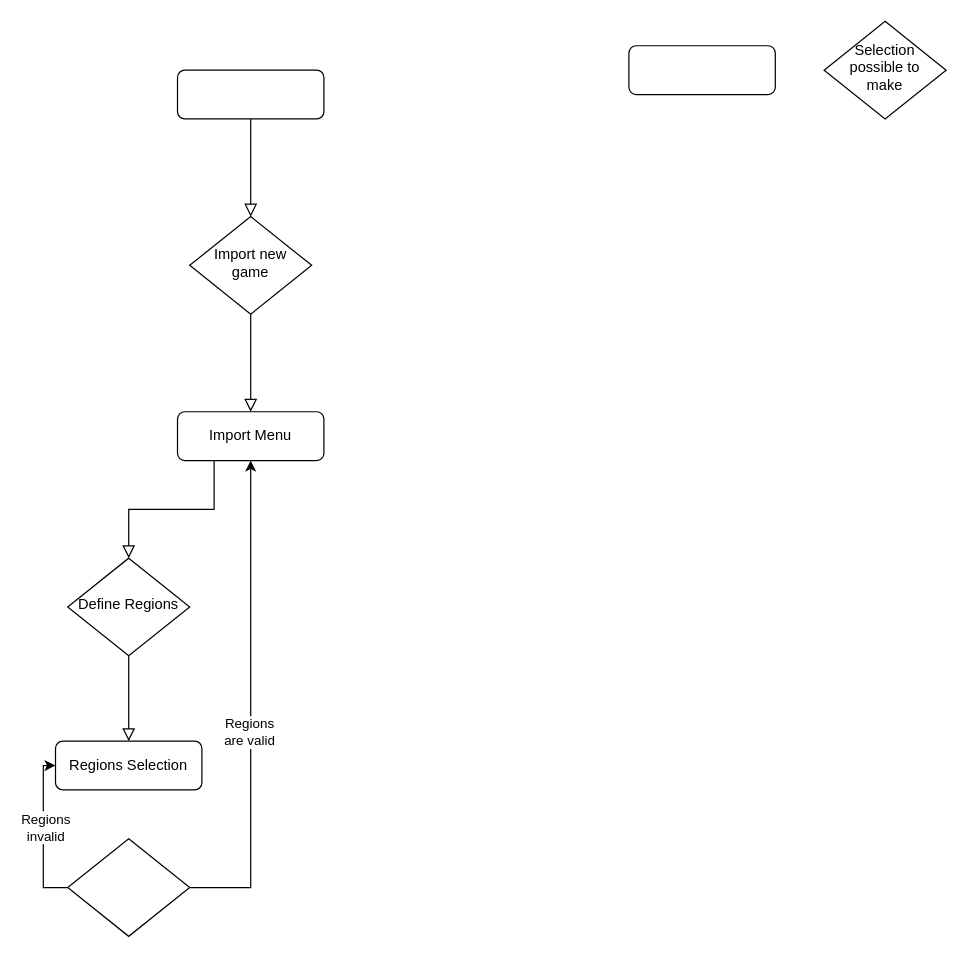
This 967x958 diagram has some shape labels left out. The centre of each missing label's shape, as x and y in pixels:
Confirm Regions: (x=128, y=887)
Main Menu: (x=250, y=94)
Rectangles are Menus running on a loop: (x=701, y=70)
